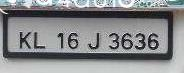1: (56, 31, 64, 48)
3: (133, 31, 146, 49), (106, 31, 119, 48)
6: (146, 31, 159, 50), (65, 31, 79, 48), (120, 31, 133, 49)
J: (85, 31, 101, 49)
K: (17, 30, 33, 48)
L: (31, 30, 46, 48)
